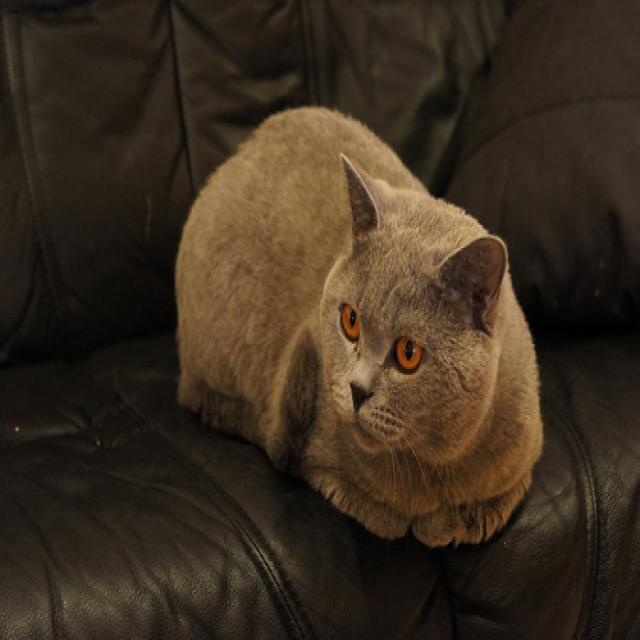British_Shorthair: (318, 148, 511, 473)
